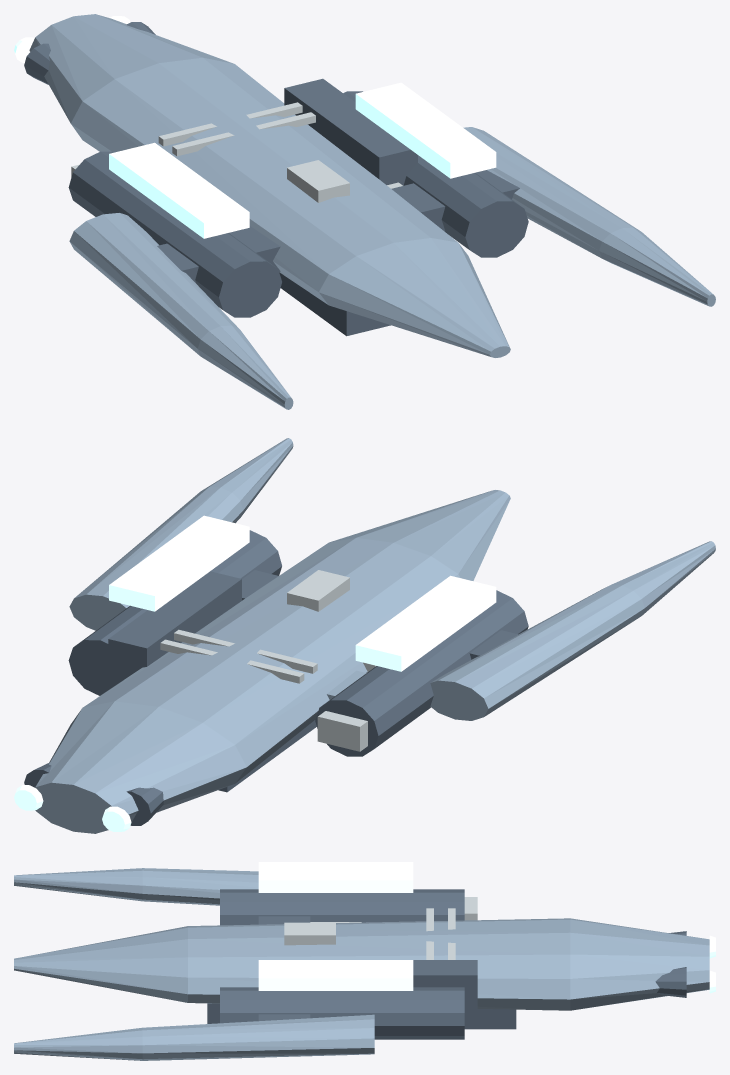
3 renders of one model, top to bottom at view 1: azimuth 30°, elevation 25°; view 2: azimuth 150°, elevation 25°; view 3: azimuth 270°, elevation 25°, orthographic. The views are drawn at different scales.
Bounding box in the file's own units: 5.94 × 1.49 × 9.92.
